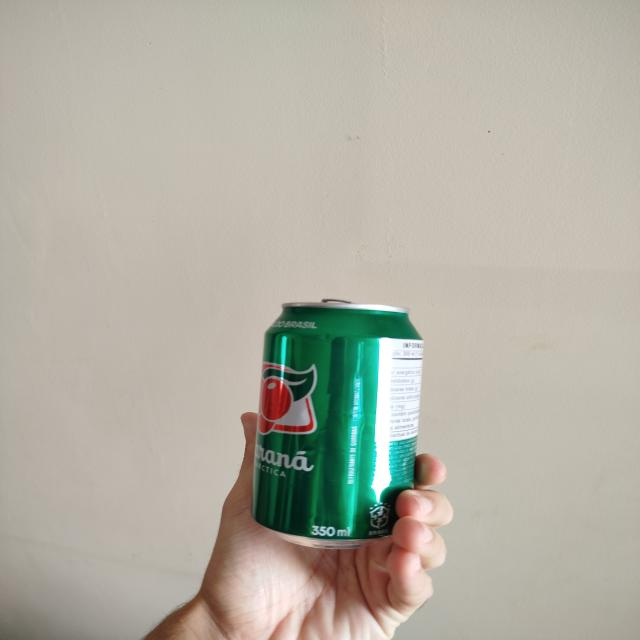Guarana: (253, 301, 424, 551)
